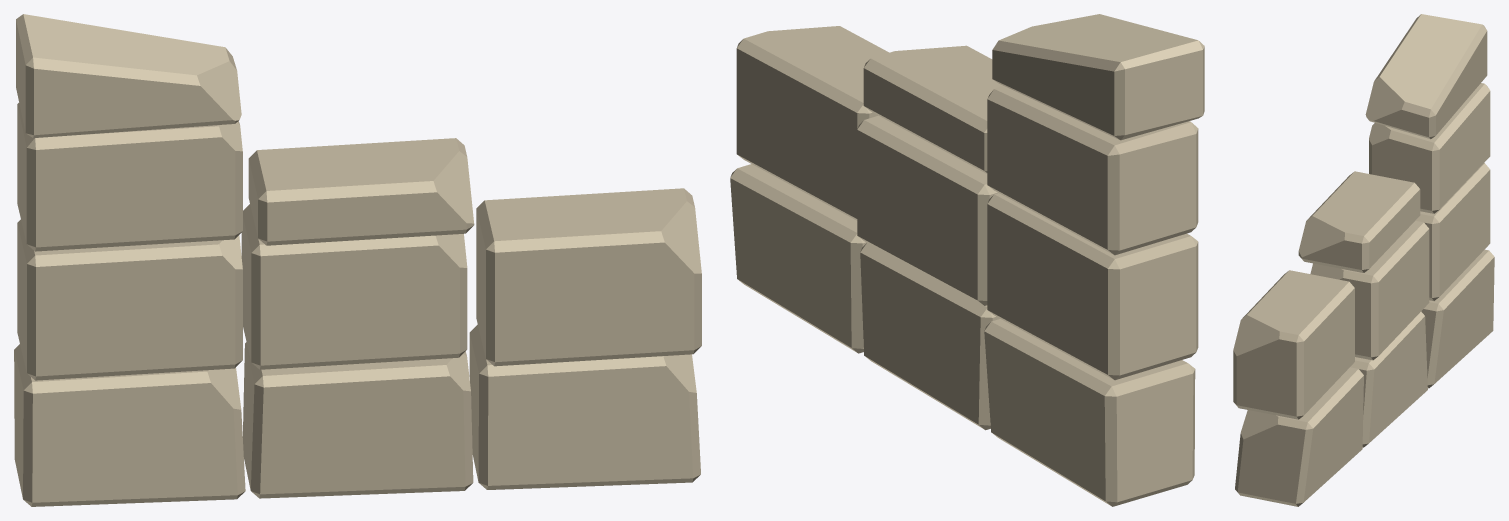
Rendered from Ruin_BrokenWall_A_candidate-initial.glb.
3 views of the same model, side by side, from view 1: azimuth 30°, elevation 25°; view 2: azimuth 150°, elevation 25°; view 3: azimuth 270°, elevation 25° (orthographic). The views are drawn at different scales.
Parts seen in each view (by area): view 1: Ruin_BrokenWall_A_Detail_v1.001; view 2: Ruin_BrokenWall_A_Detail_v1.001; view 3: Ruin_BrokenWall_A_Detail_v1.001.
Boxes of the visible parts, bbox=[...] form: Ruin_BrokenWall_A_Detail_v1.001: bbox=[14, 14, 701, 506]; Ruin_BrokenWall_A_Detail_v1.001: bbox=[730, 14, 1204, 506]; Ruin_BrokenWall_A_Detail_v1.001: bbox=[1233, 14, 1494, 506].
Size of the model in its own units: 7.67 by 5.85 by 4.48.
